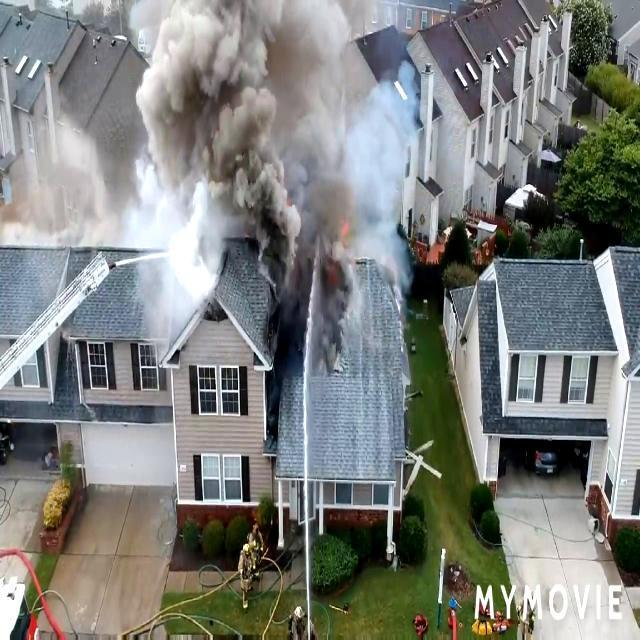Smoke: (127, 0, 356, 339), (334, 67, 417, 281)
